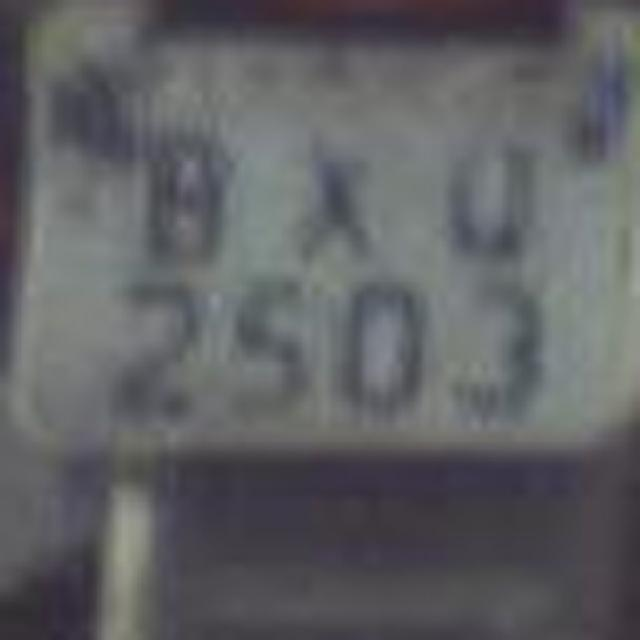0: (316, 260, 444, 428)
2: (89, 255, 216, 440)
3: (440, 248, 568, 424)
5: (211, 260, 324, 420)
B: (124, 112, 236, 276)
D: (416, 104, 552, 271)
U: (424, 120, 551, 272)
X: (260, 124, 400, 268)
